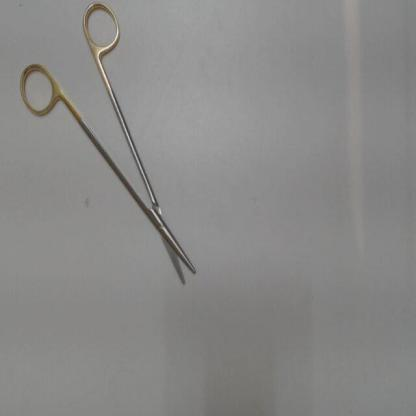7 Metzenbaum Scissors: (17, 1, 201, 288)
